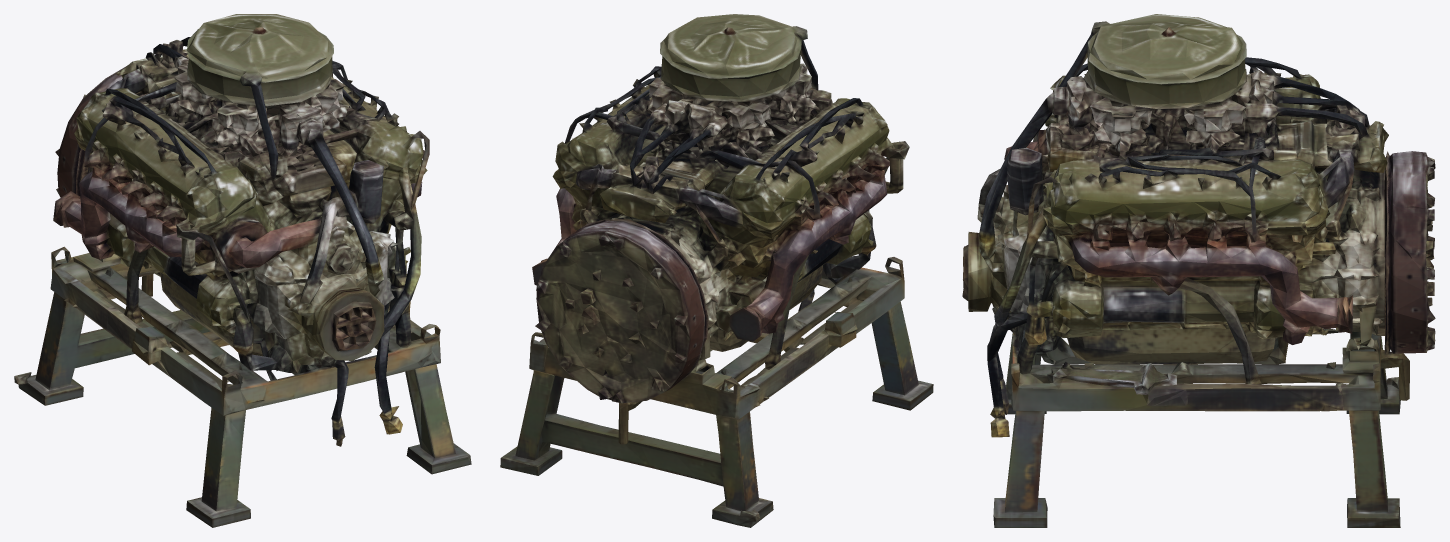
The model's file is engine_v8.glb.
The picture shows the model from 3 angles, left to right: view 1: azimuth 30°, elevation 25°; view 2: azimuth 150°, elevation 25°; view 3: azimuth 270°, elevation 25°; orthographic projection. The views are drawn at different scales.
Parts seen in each view (by area): view 1: geometry_0; view 2: geometry_0; view 3: geometry_0.
Part boxes in pixels (x1,y1,x2,y2): geometry_0: [14, 14, 471, 527]; geometry_0: [500, 14, 933, 527]; geometry_0: [962, 14, 1435, 527].
Bounding box in the file's own units: 0.6923 × 1 × 0.9911.
Materials: 1 (1 with a texture image).
